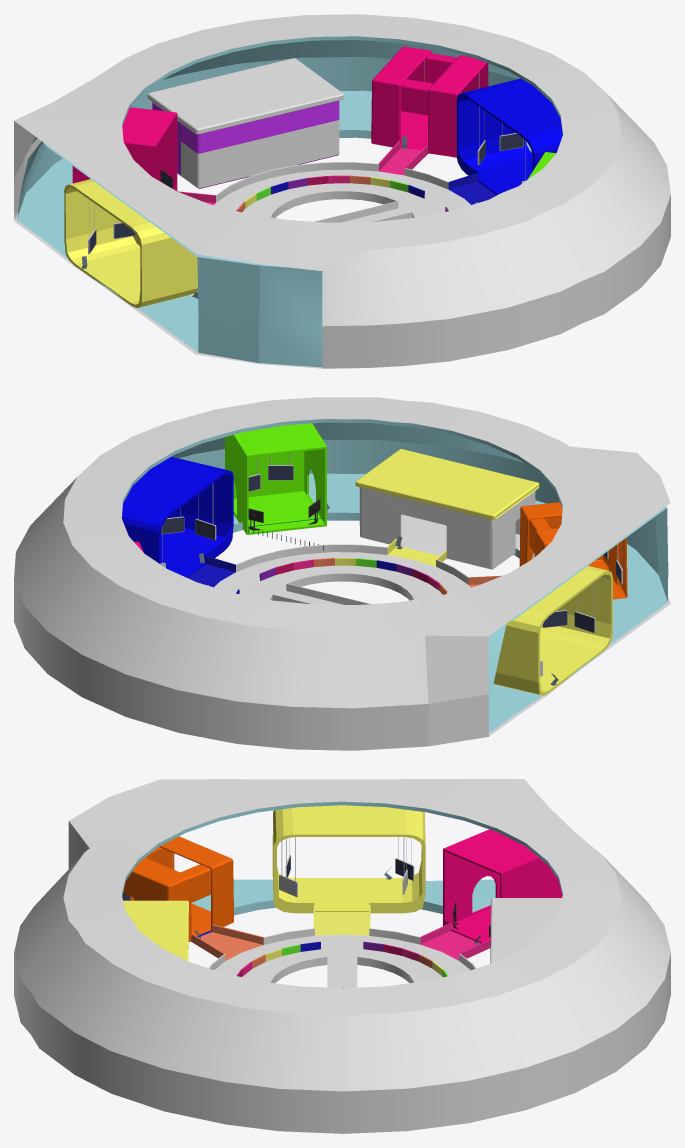
File: FutureHall.fbx
3 renders of one model, top to bottom at view 1: azimuth 30°, elevation 25°; view 2: azimuth 150°, elevation 25°; view 3: azimuth 270°, elevation 25°, orthographic.
Parts seen in each view (by area): view 1: CampusHall2, CampusRoom2, CampusRoom4.002, CampusRoom3.001, CampusRoom4.001, CampusRoom1; view 2: CampusHall2, CampusRoom6, CampusRoom4.001, CampusRoom4.002, CampusRoom5, CampusRoom7; view 3: CampusHall2, CampusRoom4.002, CampusRoom1, CampusRoom7, CampusRoom2, CampusRoom6.
Part boxes in pixels (x1,y1,x2,y2): CampusHall2: (14,14,670,368); CampusRoom2: (147,58,344,188); CampusRoom4.002: (64,179,197,308); CampusRoom3.001: (371,46,488,157); CampusRoom4.001: (456,78,562,194); CampusRoom1: (72,107,177,190); CampusHall2: (14,397,670,750); CampusRoom6: (355,449,539,569); CampusRoom4.001: (122,457,233,577); CampusRoom4.002: (493,556,612,695); CampusRoom5: (225,423,326,534); CampusRoom7: (519,502,627,599); CampusHall2: (14,779,670,1133); CampusRoom4.002: (272,805,425,913); CampusRoom1: (443,829,562,947); CampusRoom7: (123,836,233,941); CampusRoom2: (490,898,562,963); CampusRoom6: (123,900,188,961).
Size of the model in its own units: 7362 by 1383 by 8019.
